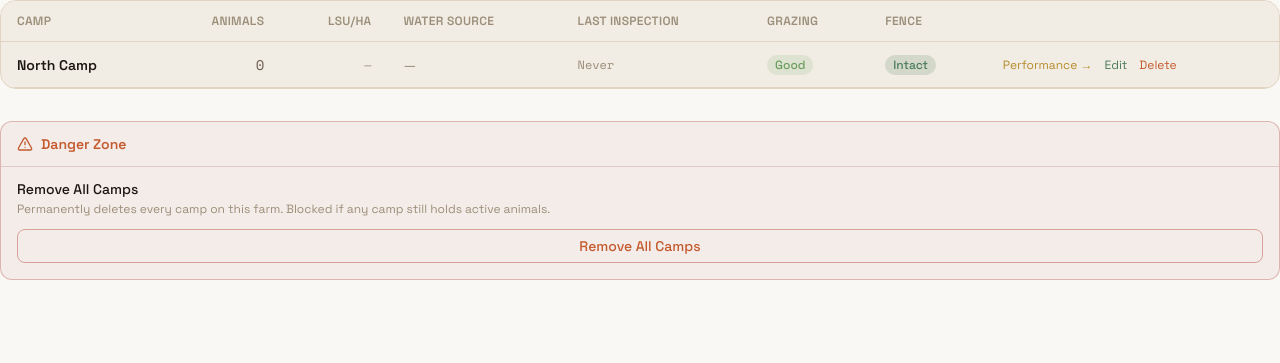
#371 — CampsTableClient 'Remove All Camps' typed confirmation › uses a typed confirmation, never a bare native window.confirm()
This screenshot has width=1280, height=363.
Click the button "Remove All Camps". click: click(640, 246)
box: x1=17 y1=229 x2=1263 y2=263
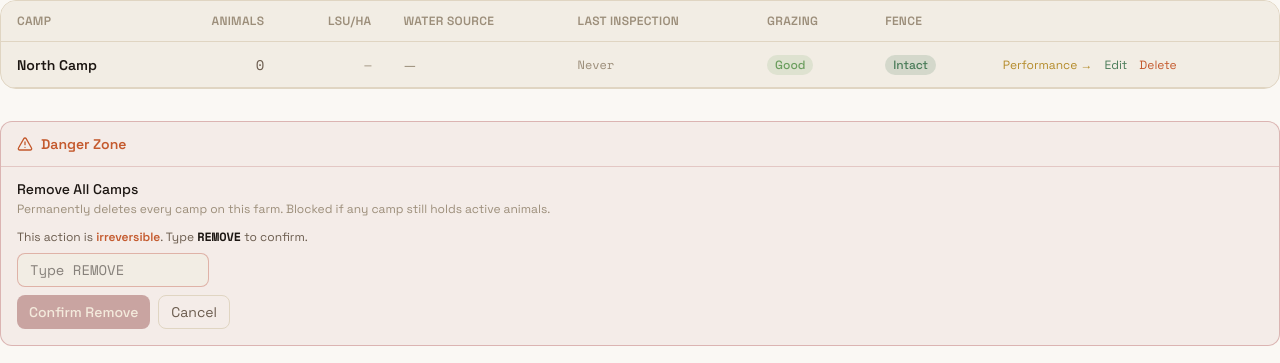
Expected: the field with placeholder "Type REMOVE" is shown, x1=17 y1=253 x2=209 y2=287
